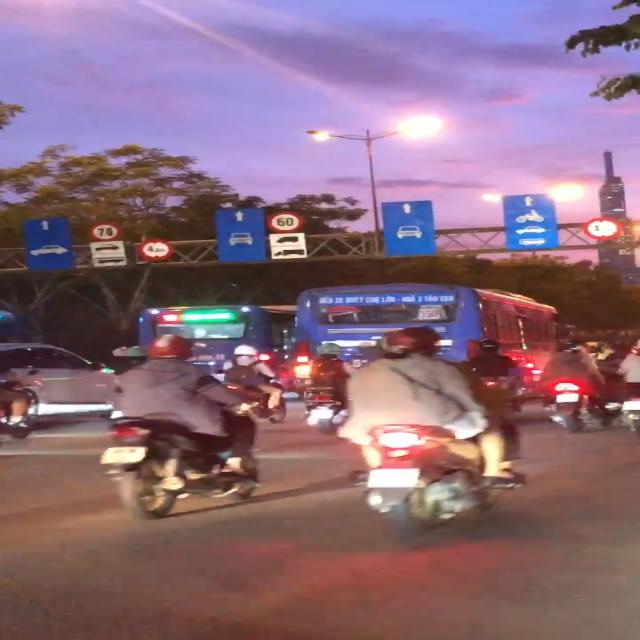Bien bao toc do toi da cho phep: (265, 208, 304, 232), (87, 222, 123, 243)
